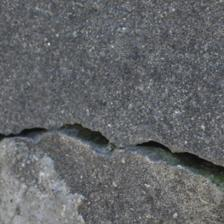Crack: (18, 63, 99, 160), (88, 67, 132, 129)
